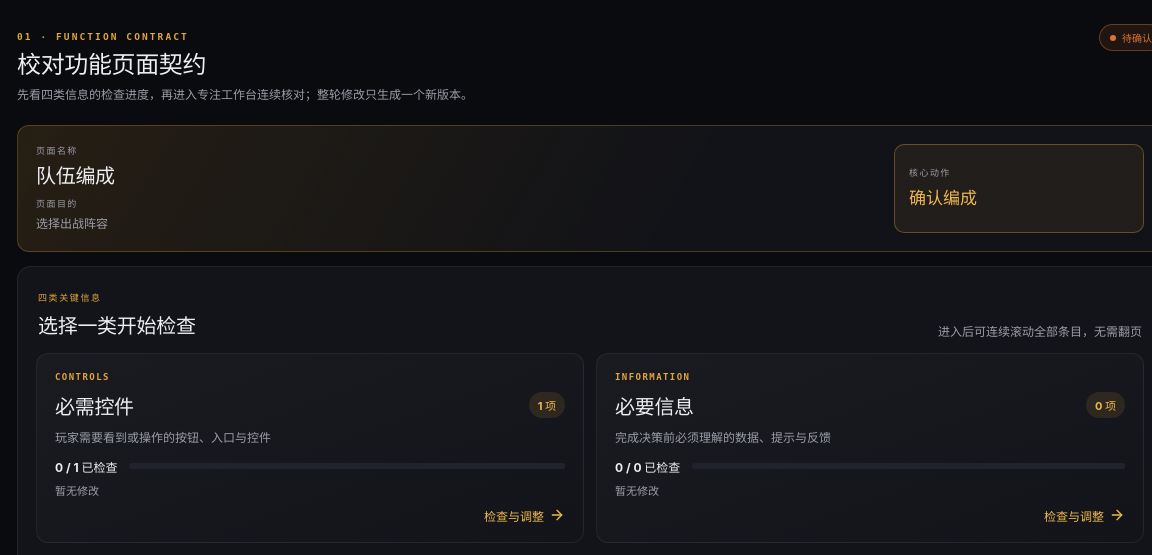
Test: ContractWorkspace（语义角色门禁路线感知） › strict 路线：必须先解析具体角色才能保存，下拉显示中文标签
Click the button with test id "contract-open-required_controls" at (82, 377), box [36, 353, 584, 543]
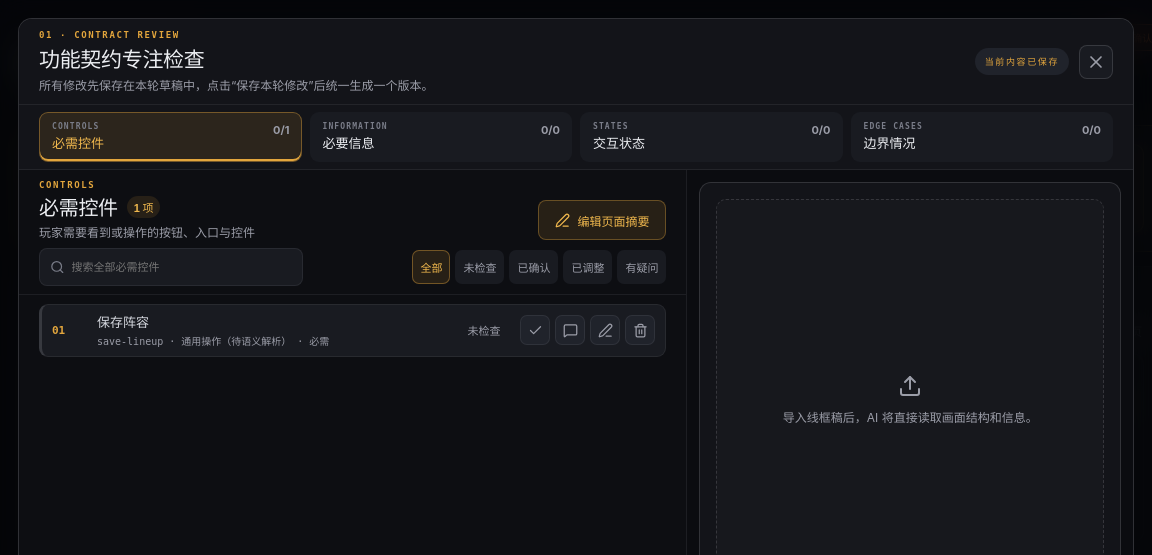
Click the button titled "编辑条目" at (605, 330), box [590, 315, 620, 345]
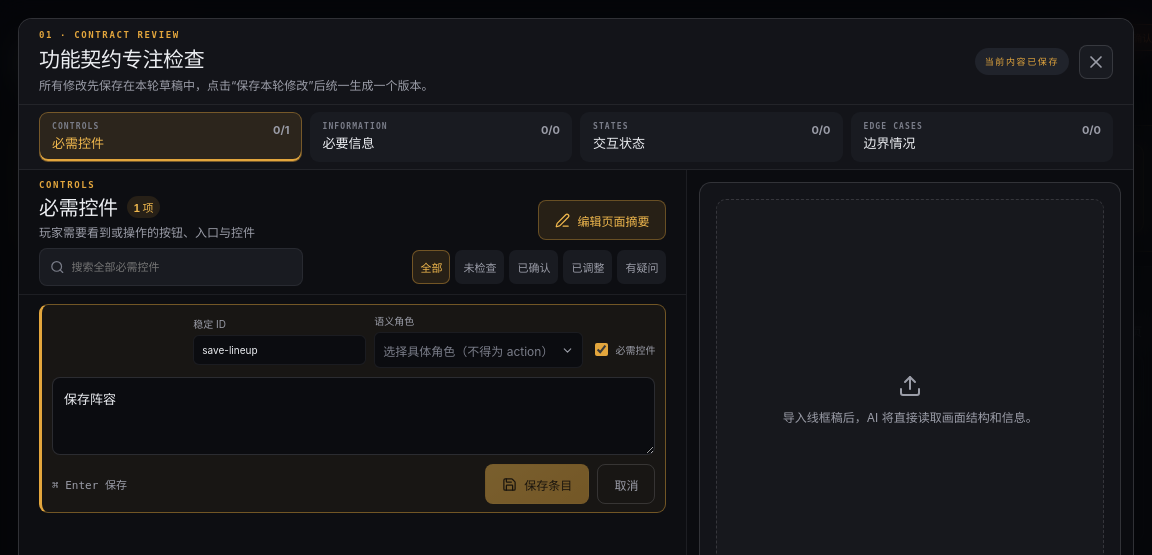
Expected: the button "保存条目" is disabled, [485, 464, 589, 504]
Click the dropdown named "选择控件语义角色" at (479, 350), box [374, 332, 583, 368]
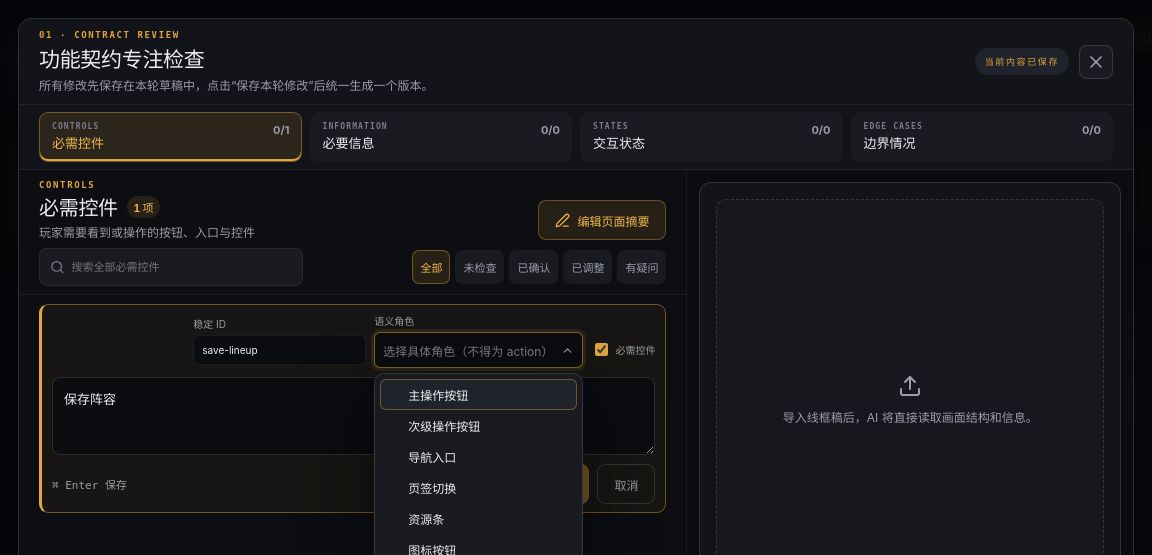
Click the option "主操作按钮" at (479, 394), box [380, 379, 577, 410]
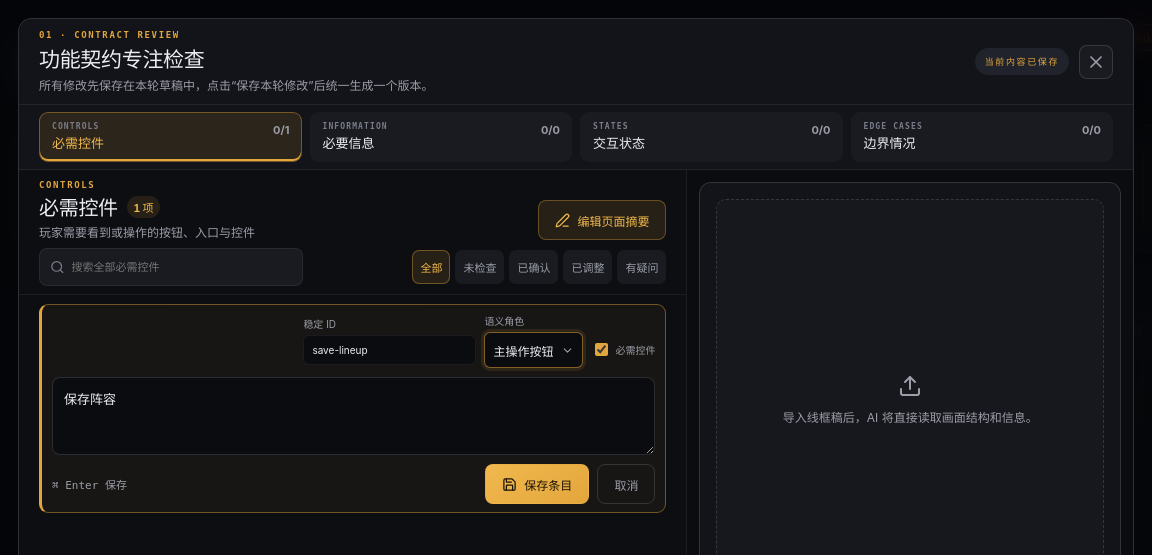
Expected: the button "保存条目" is enabled, [485, 464, 589, 504]
